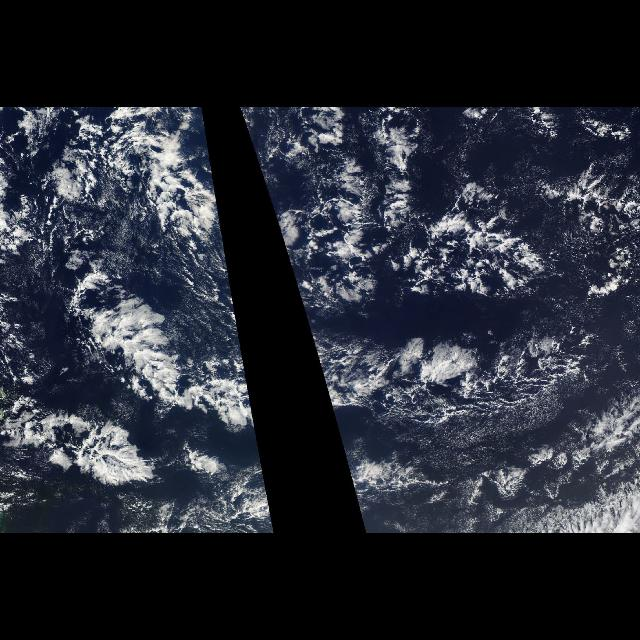Fish: (248, 134, 640, 446), (34, 134, 260, 446)
